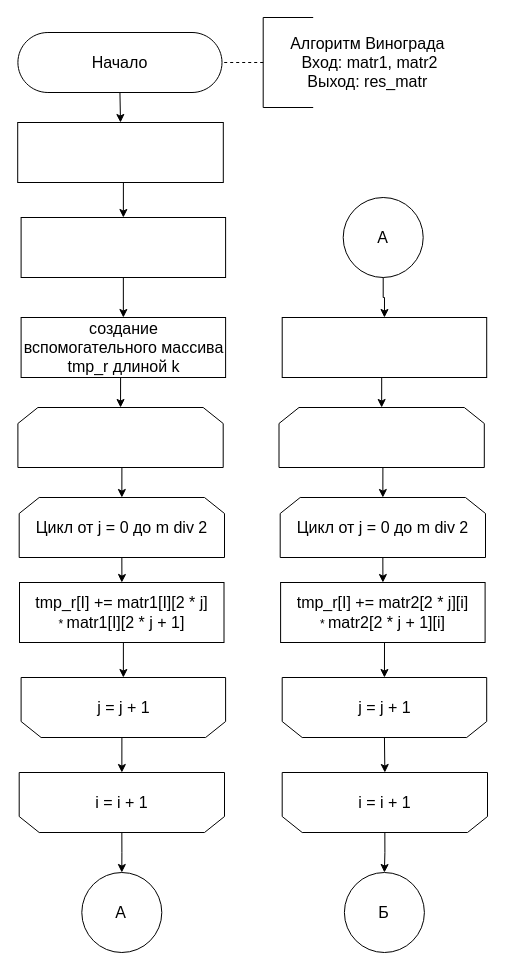
This 505x970 diagram has some shape labels left out. Each missing label, with the centre of its shape:
"n - кол-во строк matr1 m - кол-во столбцов matr1 k - кол-востолбцов matr2" belongs at (120,152).
"создание res_matr размером n на k, заполненой нулями" belongs at (123,247).
"создание вспомогательного массива tmp_с длиной k" belongs at (384,347).
"Цикл от i = 0 до k" belongs at (381,437).
"Цикл от i = 0 до n" belongs at (120,437).
